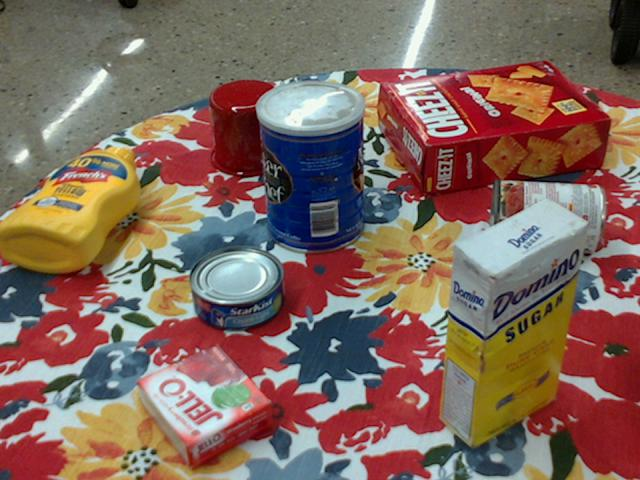cracker_box: (381, 63, 611, 196)
gelatin_box: (138, 347, 275, 473)
master_chef_can: (257, 79, 365, 254)
mug: (209, 80, 308, 177)
mustard_bottle: (0, 147, 139, 272)
sugar_box: (441, 196, 588, 450)
tomato_soup_can: (492, 179, 607, 251)
tuna_fish_can: (188, 247, 284, 332)
